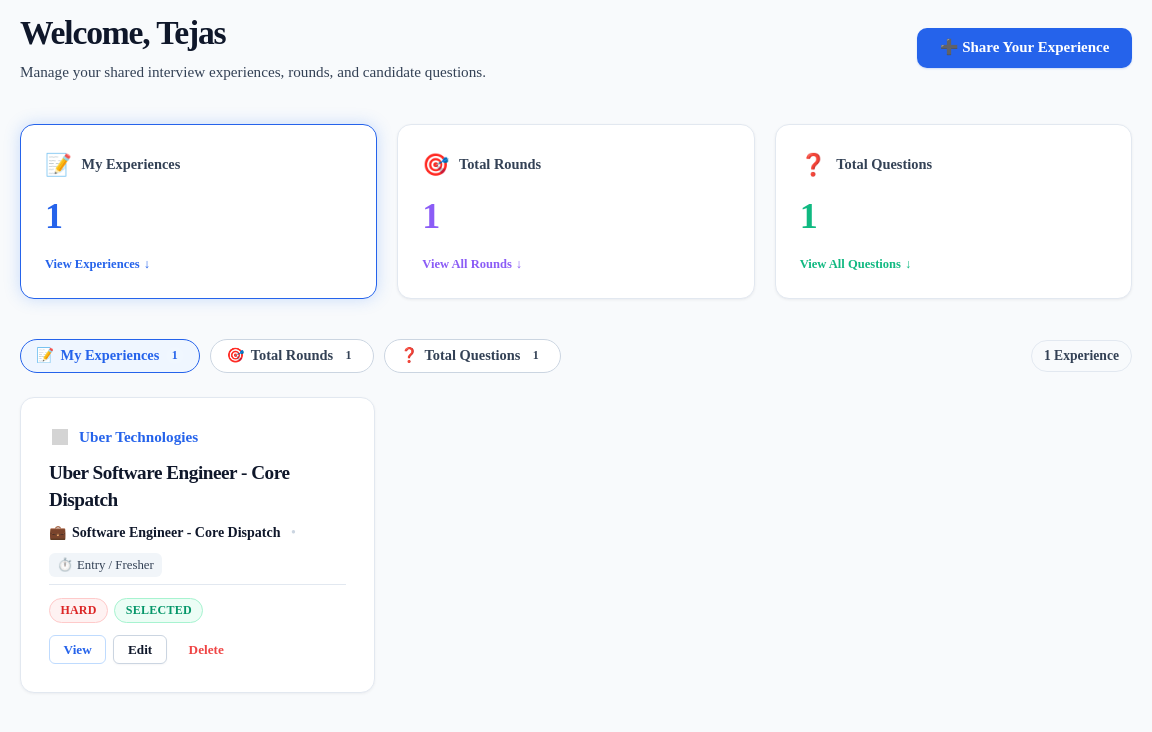
Test case: DASHBOARD: Stat Cards, Interactive Redirects & View Switching › redirects/switches view to Total Questions when Total Questions stat card is clicked
Expected: the link "Uber Software Engineer - Core Dispatch" is shown, [49, 462, 290, 510]
Click the button with id "stat-total-questions".
click(884, 164)  # box [775, 124, 1132, 299]
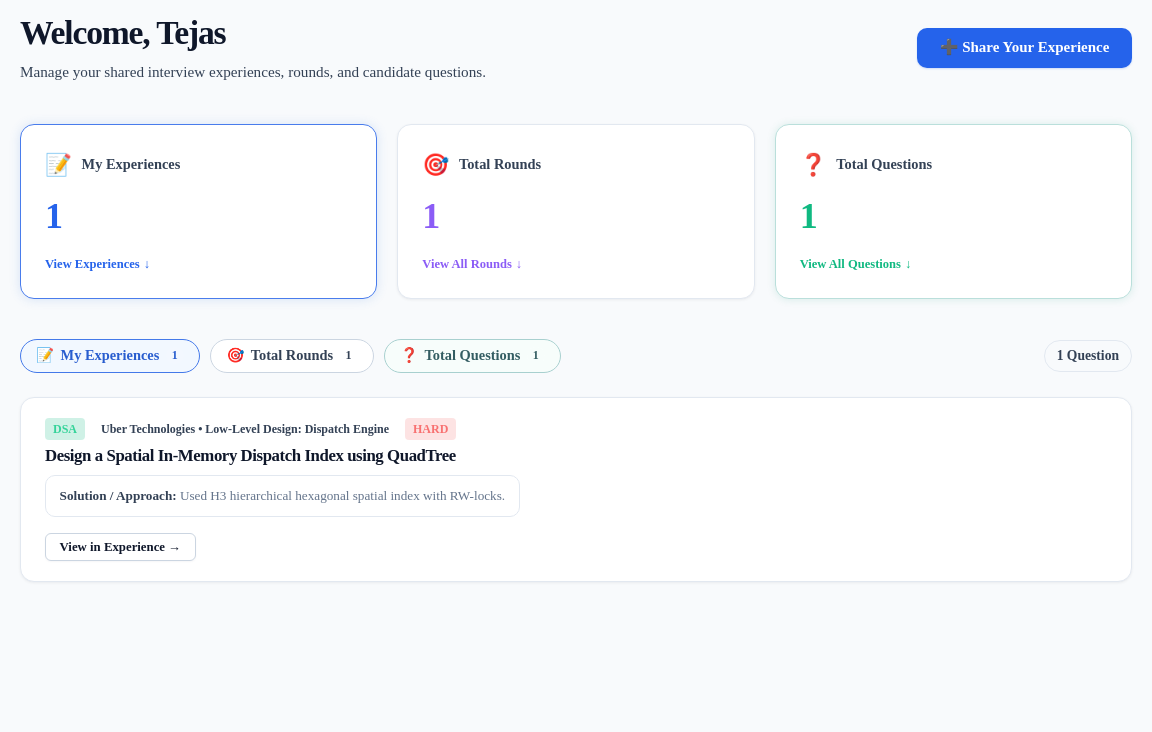
Expected: the element that starts with "DSA" is shown, [20, 396, 1132, 582]
Expected: the heading "Design a Spatial In-Memory Dispatch Index using QuadTree" is shown, [45, 446, 520, 467]
Expected: the text "Solution / Approach:" is shown, [60, 488, 180, 503]
